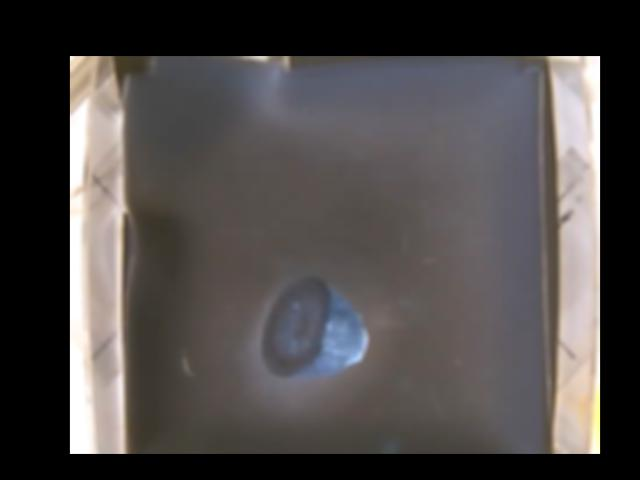Mooli: (259, 276, 371, 380)
